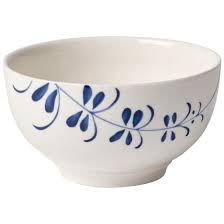bowl: (1, 33, 222, 193)
